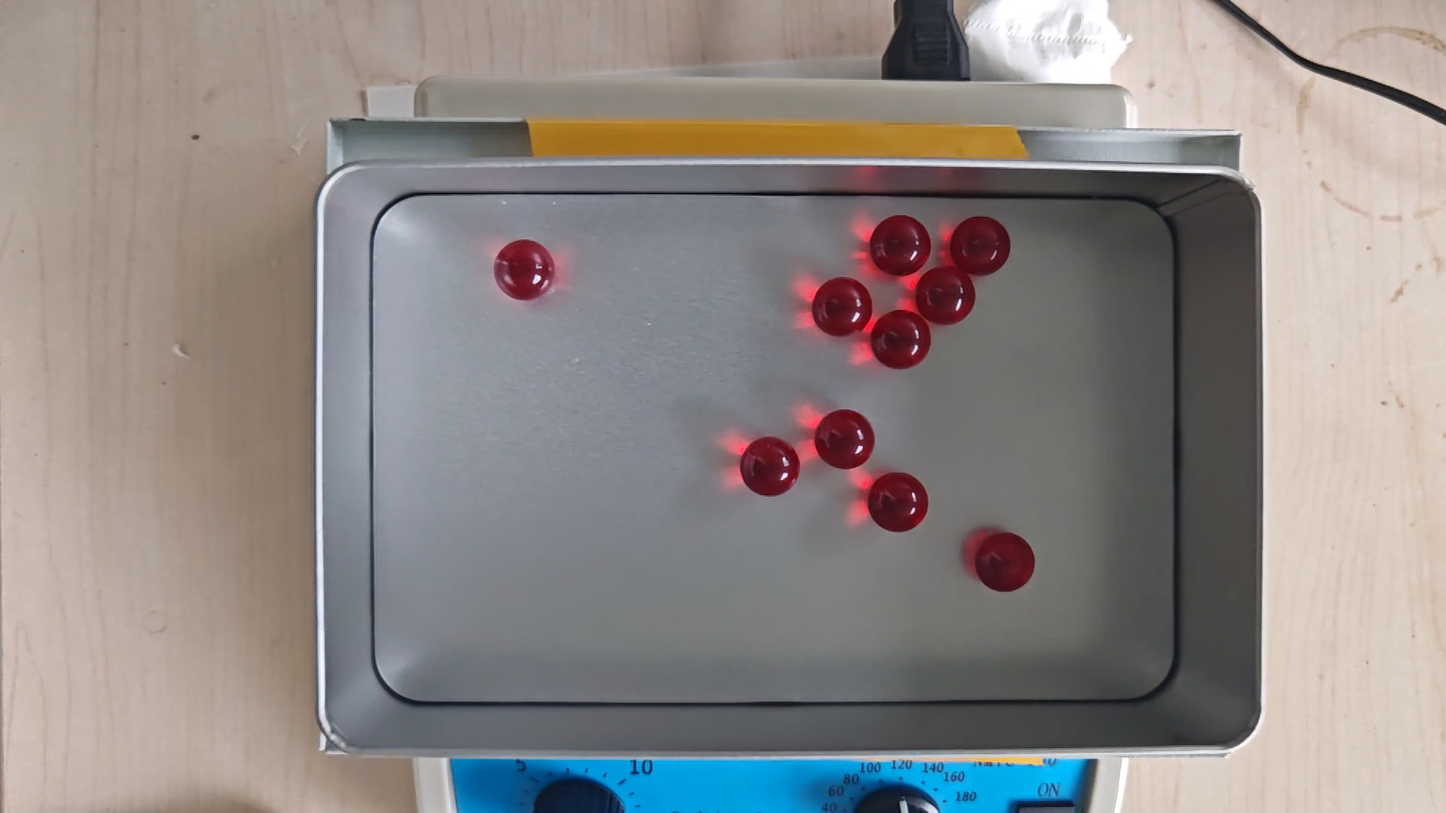ball: (493, 238, 556, 303), (975, 530, 1036, 593), (815, 408, 875, 470), (871, 214, 931, 276), (868, 471, 928, 532), (740, 436, 800, 496), (872, 309, 931, 370), (812, 277, 871, 338), (918, 266, 977, 325), (952, 215, 1011, 274)
container: (371, 194, 1176, 703)
